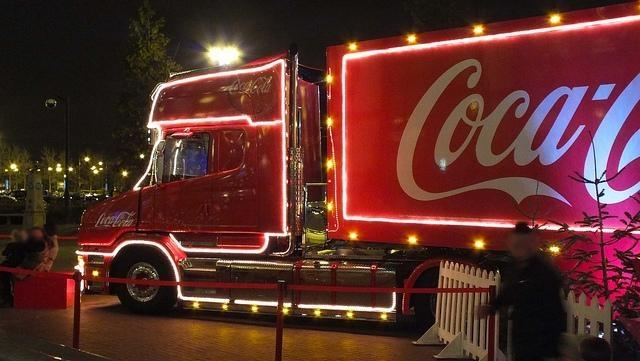truck: (78, 3, 640, 332)
